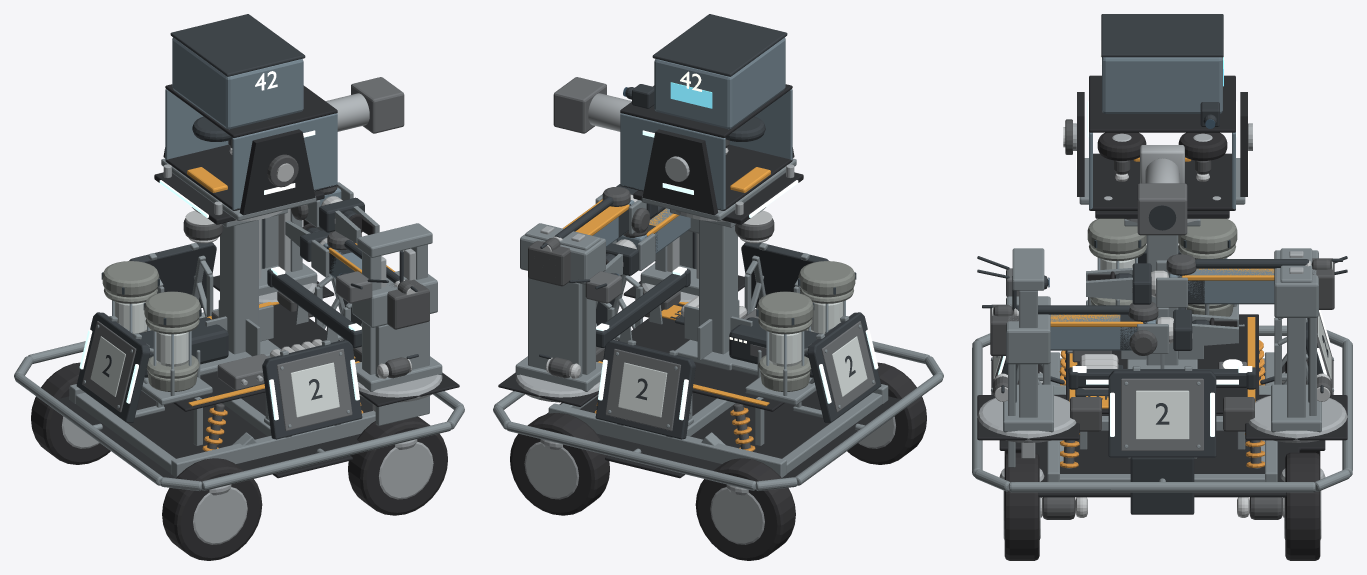
The model's file is robot-2712-spec2027.glb.
3 views of the same model, side by side, from view 1: azimuth 30°, elevation 25°; view 2: azimuth 150°, elevation 25°; view 3: azimuth 270°, elevation 25° (orthographic). The views are drawn at different scales.
Visible parts, largest first — view 1: Chassis_RobotMatteAluminum, GunPitch_TeamPrimaryShell, Chassis_CarbonPlate, GunPitch_RobotMatteGraphite, SwerveTyre, ArmLift_RobotMatteAluminum, SwerveTyre.002, ArmSlew_RobotMatteAluminum, LauncherModule_CarbonPlate, GunPitch_CarbonPlate, Chassis_RobotMatteGraphite, CarriedUnit_0_ProtectiveMetal (+34 smaller); view 2: Chassis_RobotMatteAluminum, GunPitch_TeamPrimaryShell, Chassis_CarbonPlate, Aux_ArmLift_RobotMatteAluminum, GunPitch_RobotMatteGraphite, SwerveTyre.001, SwerveTyre.003, LauncherModule_CarbonPlate, Chassis_RobotMatteGraphite, GunPitch_CarbonPlate, CarriedUnit_1_ProtectiveMetal, SwerveTyre (+34 smaller); view 3: Chassis_RobotMatteAluminum, Chassis_CarbonPlate, GunPitch_CarbonPlate, GunPitch_TeamPrimaryShell, GunPitch_RobotMatteGraphite, Chassis_RobotMatteGraphite, ArmSlew_RobotMatteAluminum, Aux_ArmSlew_RobotMatteAluminum, Chassis_MotorHousing, SwerveTyre.003, Chassis_MachinedAlloy, ArmorHitFace (+35 smaller).
Part boxes in pixels (bbox=[...]): Chassis_RobotMatteAluminum: bbox=[14, 209, 464, 490]; GunPitch_TeamPrimaryShell: bbox=[165, 37, 337, 210]; Chassis_CarbonPlate: bbox=[57, 275, 459, 478]; GunPitch_RobotMatteGraphite: bbox=[170, 14, 305, 141]; SwerveTyre: bbox=[162, 458, 262, 560]; ArmLift_RobotMatteAluminum: bbox=[352, 271, 437, 425]; SwerveTyre.002: bbox=[348, 416, 447, 515]; ArmSlew_RobotMatteAluminum: bbox=[355, 223, 442, 391]; LauncherModule_CarbonPlate: bbox=[163, 129, 315, 215]; GunPitch_CarbonPlate: bbox=[165, 84, 337, 210]; Chassis_RobotMatteGraphite: bbox=[139, 269, 361, 377]; CarriedUnit_0_ProtectiveMetal: bbox=[144, 291, 200, 391]; Chassis_RobotMatteAluminum: bbox=[493, 209, 943, 490]; GunPitch_TeamPrimaryShell: bbox=[620, 37, 792, 210]; Chassis_CarbonPlate: bbox=[498, 275, 900, 478]; Aux_ArmLift_RobotMatteAluminum: bbox=[520, 234, 605, 377]; GunPitch_RobotMatteGraphite: bbox=[625, 14, 787, 141]; SwerveTyre.001: bbox=[695, 458, 795, 560]; SwerveTyre.003: bbox=[510, 413, 609, 515]; LauncherModule_CarbonPlate: bbox=[642, 129, 794, 215]; Chassis_RobotMatteGraphite: bbox=[596, 269, 818, 377]; GunPitch_CarbonPlate: bbox=[620, 84, 792, 210]; CarriedUnit_1_ProtectiveMetal: bbox=[757, 291, 813, 391]; SwerveTyre: bbox=[847, 362, 926, 464]; Chassis_RobotMatteAluminum: bbox=[972, 219, 1352, 492]; Chassis_CarbonPlate: bbox=[977, 314, 1347, 497]; GunPitch_CarbonPlate: bbox=[1089, 75, 1235, 210]; GunPitch_TeamPrimaryShell: bbox=[1089, 57, 1235, 209]; GunPitch_RobotMatteGraphite: bbox=[1101, 14, 1223, 230]; Chassis_RobotMatteGraphite: bbox=[1041, 307, 1283, 514]; ArmSlew_RobotMatteAluminum: bbox=[1003, 248, 1053, 432]; Aux_ArmSlew_RobotMatteAluminum: bbox=[1271, 248, 1321, 432]; Chassis_MotorHousing: bbox=[1042, 351, 1282, 519]; SwerveTyre.003: bbox=[1285, 452, 1320, 560]; Chassis_MachinedAlloy: bbox=[977, 350, 1347, 442]; ArmorHitFace: bbox=[1121, 378, 1203, 450].
Bounding box in the file's own units: 0.5985 × 0.817 × 0.5969.
